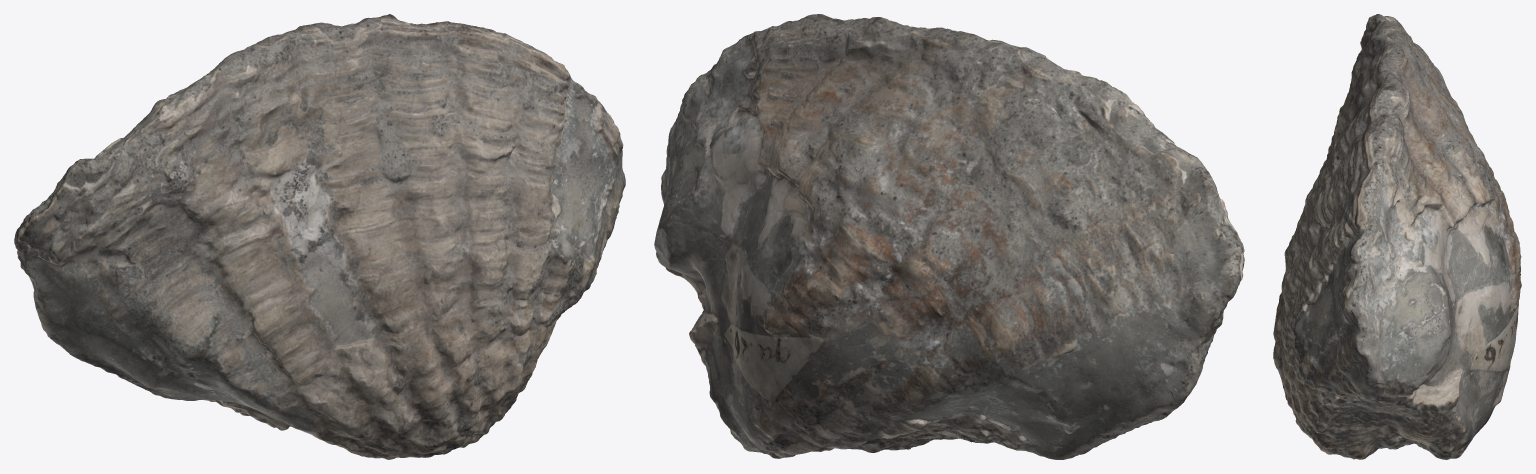
The model's file is eth000015367.glb.
The picture shows the model from 3 angles, left to right: view 1: azimuth 30°, elevation 25°; view 2: azimuth 150°, elevation 25°; view 3: azimuth 270°, elevation 25°; orthographic projection. The views are drawn at different scales.
Parts seen in each view (by area): view 1: input; view 2: input; view 3: input.
Part boxes in pixels (left/top/right/bottom): input: left=14, top=14, right=625, bottom=459; input: left=654, top=14, right=1244, bottom=459; input: left=1273, top=14, right=1521, bottom=459.
Bounding box in the file's own units: 0.0516 × 0.0365 × 0.0228.
Materials: 1 (1 with a texture image).
